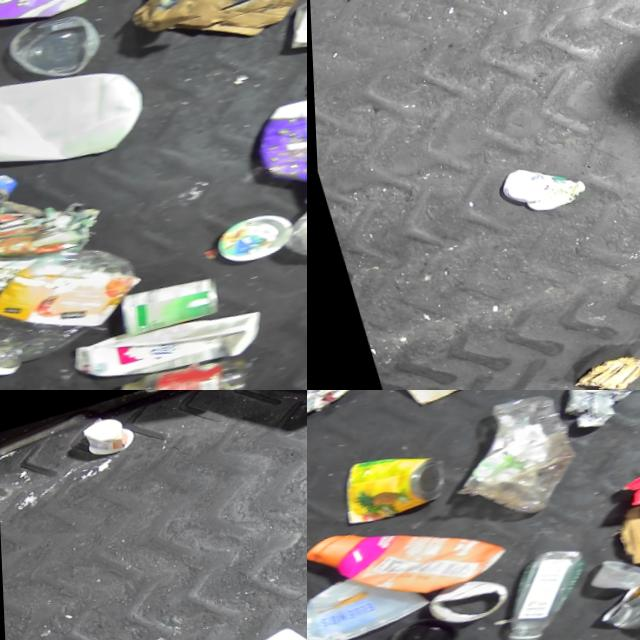can: (321, 444, 447, 535), (575, 570, 640, 640), (274, 25, 307, 106), (307, 390, 376, 425), (0, 160, 36, 225)
non_white_jug: (307, 491, 512, 632)
plastic_bottle: (0, 227, 158, 380)
